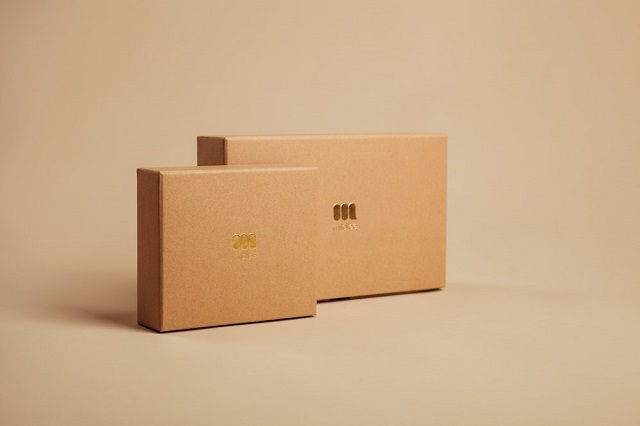box: (197, 134, 447, 292), (138, 164, 318, 331)
